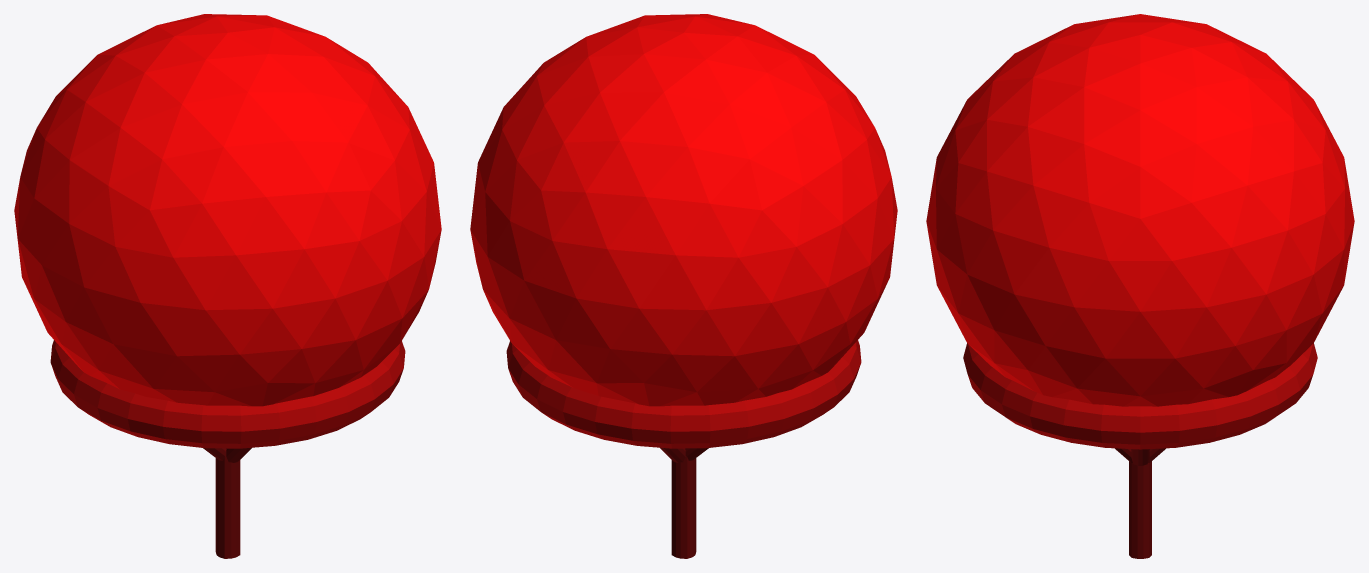
The model's file is WipeoutBall.fbx.
The picture shows the model from 3 angles, left to right: view 1: azimuth 30°, elevation 25°; view 2: azimuth 150°, elevation 25°; view 3: azimuth 270°, elevation 25°; orthographic projection.
Parts seen in each view (by area): view 1: WipeoutBall; view 2: WipeoutBall; view 3: WipeoutBall.
Boxes of the visible parts, box(x1,y1,x2,y2) form: WipeoutBall: box(14, 14, 441, 558); WipeoutBall: box(470, 14, 897, 558); WipeoutBall: box(926, 14, 1354, 558).
Size of the model in its own units: 200 by 268 by 200.
